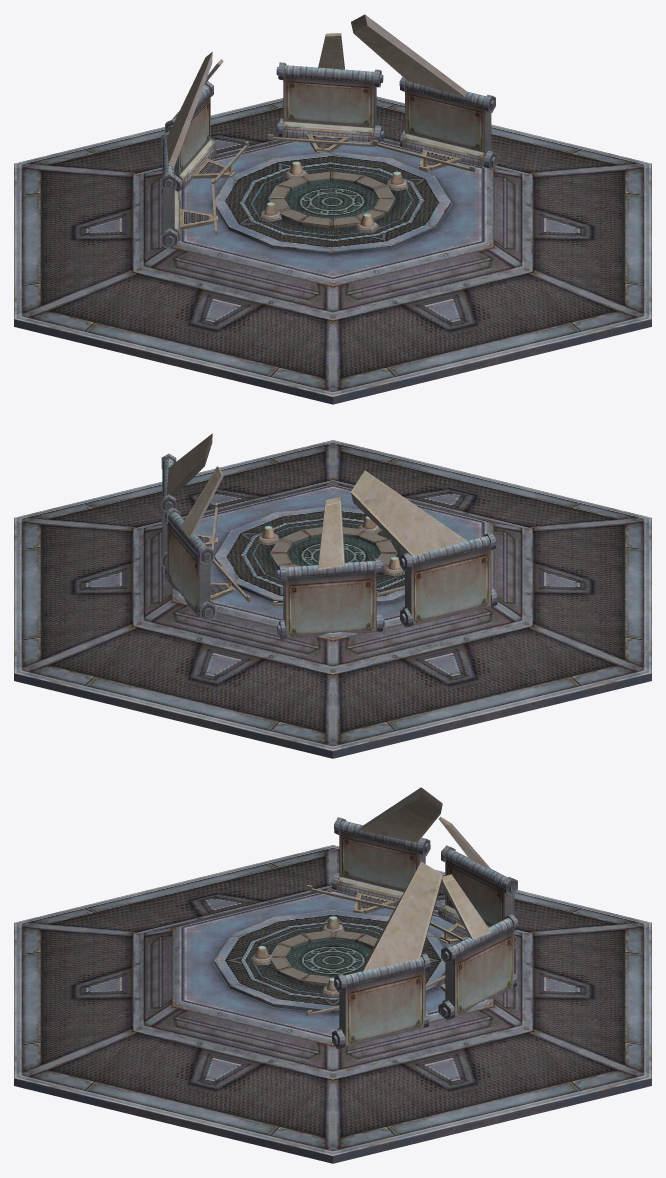
The model's file is zc_lekesigang_jiguangtai01.FBX.
3 renders of one model, top to bottom at view 1: azimuth 30°, elevation 25°; view 2: azimuth 150°, elevation 25°; view 3: azimuth 270°, elevation 25°, orthographic.
Parts seen in each view (by area): view 1: zc_lekesigang_jiguangtai01; view 2: zc_lekesigang_jiguangtai01; view 3: zc_lekesigang_jiguangtai01.
Part boxes in pixels (x1=…): zc_lekesigang_jiguangtai01: x1=14, y1=14, x2=651, y2=404; zc_lekesigang_jiguangtai01: x1=14, y1=433, x2=651, y2=758; zc_lekesigang_jiguangtai01: x1=14, y1=787, x2=651, y2=1163.
Bounding box in the file's own units: 2267 × 624 × 1964.
1 material, 1 textured.
